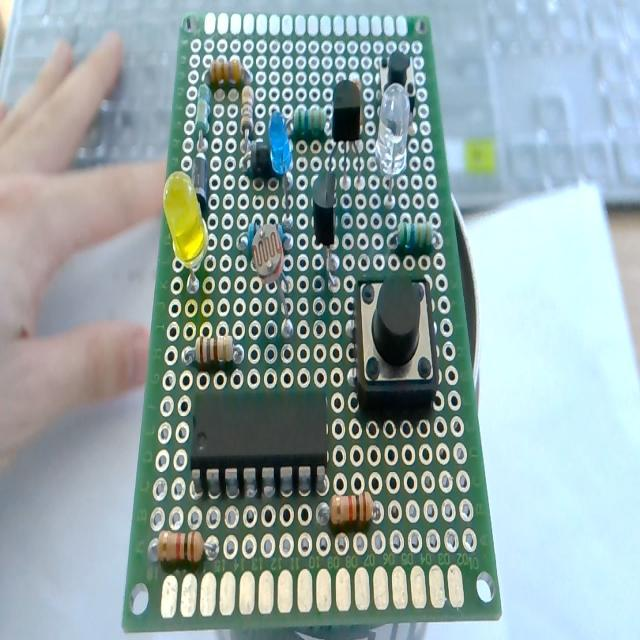IC: (188, 382, 338, 502)
cds: (246, 218, 304, 340)
led: (158, 168, 214, 297), (373, 81, 416, 208), (266, 108, 299, 230)
resistor: (146, 514, 218, 578), (315, 482, 384, 536), (180, 328, 248, 376), (385, 218, 448, 258), (286, 102, 331, 142), (198, 57, 257, 86), (191, 78, 213, 143), (238, 85, 256, 155)
switch: (350, 272, 438, 423), (372, 50, 428, 117)
transistor: (310, 166, 345, 294), (328, 80, 362, 183)
